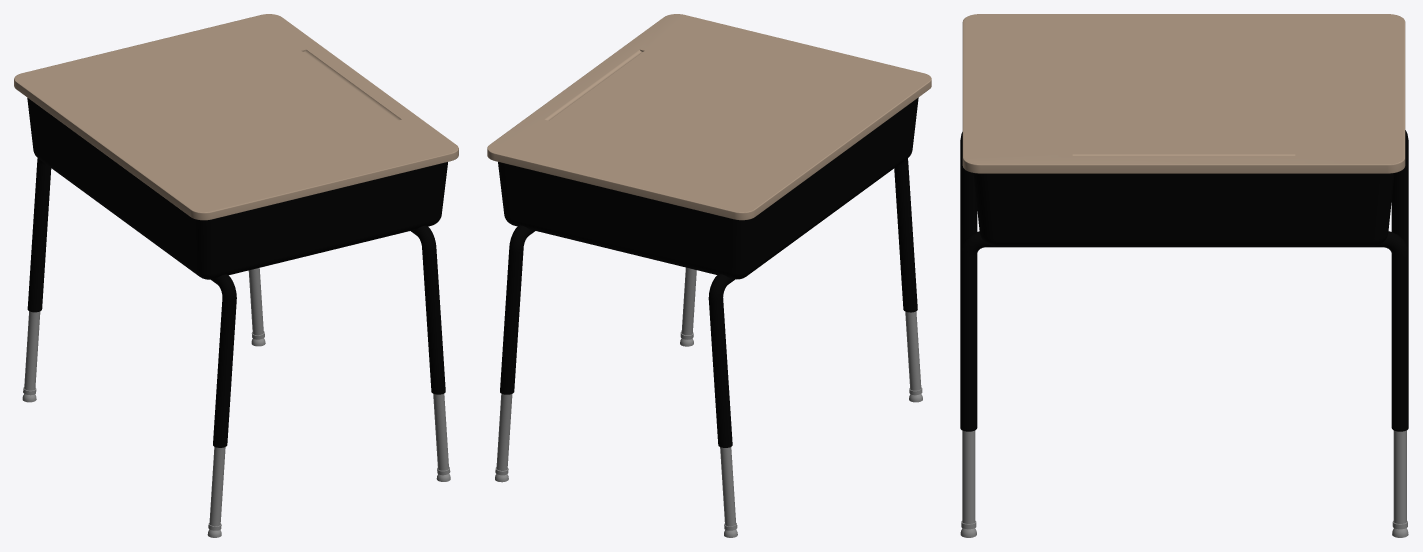
The model's file is StudentDesk.fbx.
The picture shows the model from 3 angles, left to right: view 1: azimuth 30°, elevation 25°; view 2: azimuth 150°, elevation 25°; view 3: azimuth 270°, elevation 25°; orthographic projection. The views are drawn at different scales.
Visible parts, largest first — view 1: polySurface1, pCube3; view 2: polySurface1, pCube3; view 3: polySurface1, pCube3.
Boxes of the visible parts, <box> form: polySurface1: <box>14,14,458,220</box>; pCube3: <box>22,98,450,537</box>; polySurface1: <box>487,14,931,220</box>; pCube3: <box>495,97,922,537</box>; polySurface1: <box>962,14,1405,173</box>; pCube3: <box>960,130,1408,537</box>.
Size of the model in its own units: 3.27 by 3.83 by 4.1.
